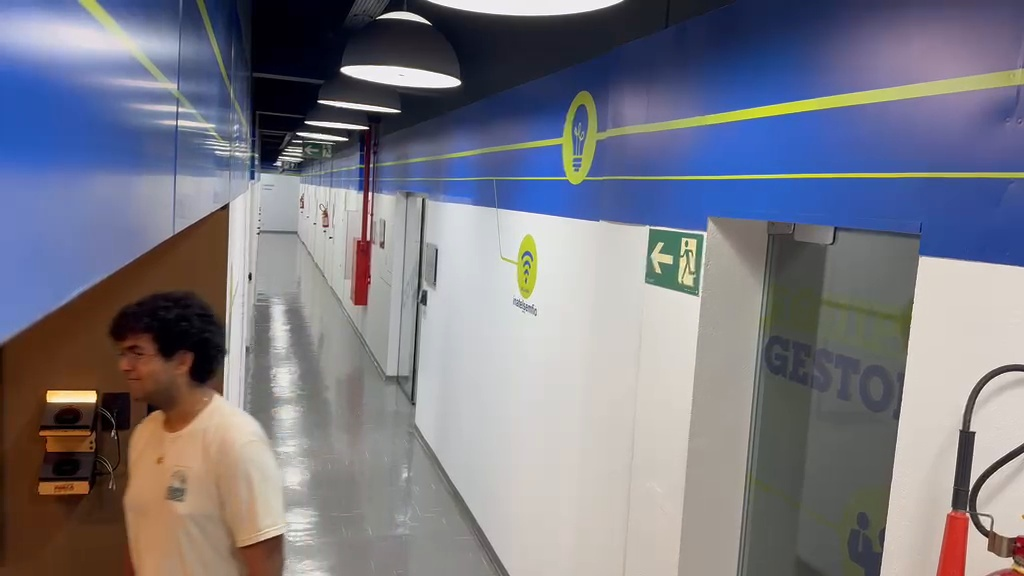person: (108, 291, 288, 573)
